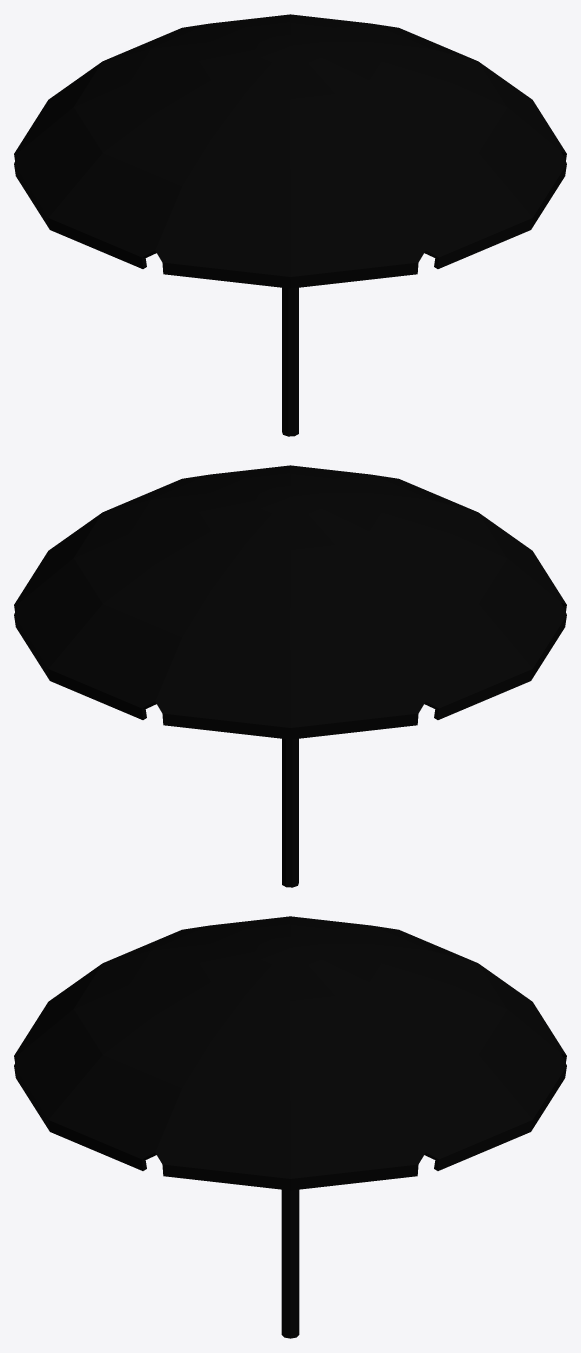
Rendered from ombrellone_LOD0.fbx.
3 renders of one model, top to bottom at view 1: azimuth 30°, elevation 25°; view 2: azimuth 150°, elevation 25°; view 3: azimuth 270°, elevation 25°, orthographic.
Visible parts, largest first — view 1: Sphere_002_0; view 2: Sphere_002_0; view 3: Sphere_002_0.
Boxes of the visible parts, x1,y1,x2,y2 form: Sphere_002_0: (14,14,566,436); Sphere_002_0: (14,465,566,887); Sphere_002_0: (14,916,566,1338).
Size of the model in its own units: 449 by 343 by 443.
